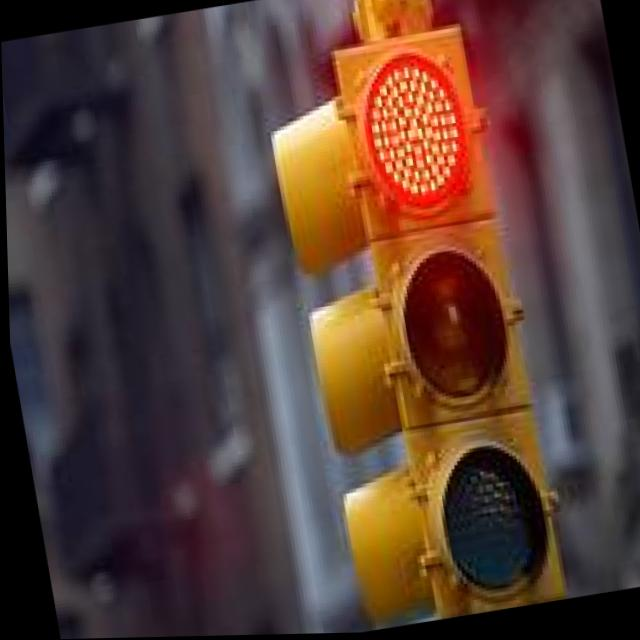red_light: (282, 0, 547, 252)
